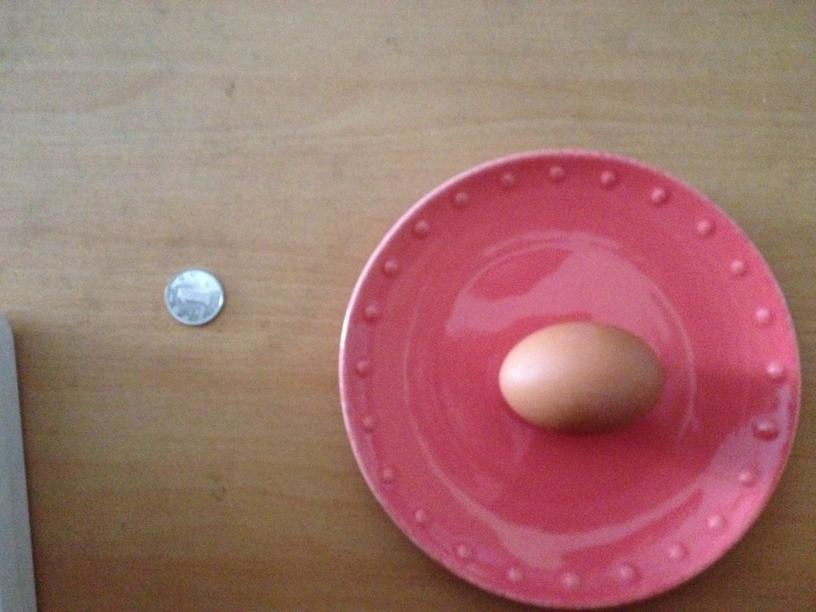coin: (161, 267, 225, 327)
egg: (495, 322, 667, 430)
